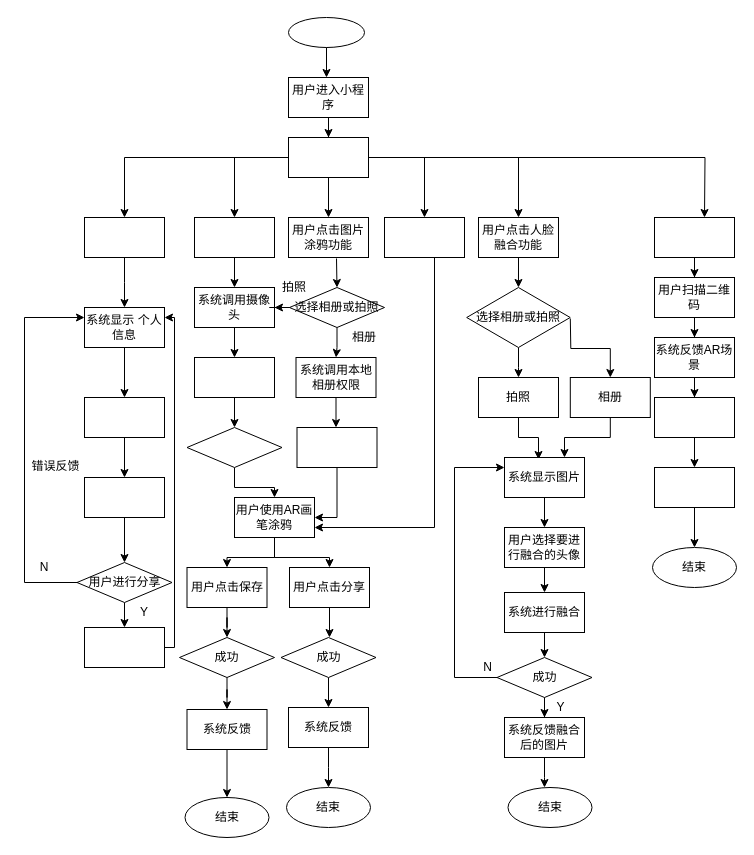
Some shapes in this 754 by 855 pixel diagram are drawn without their labels. The box of each missing label's shape, as (x1, y1, x2, y2) in pixels:
分享成功，系统进行提示: (84, 626, 164, 668)
开始: (288, 16, 364, 48)
拍照成功: (186, 426, 282, 468)
用户点击ar涂鸦功能: (384, 216, 464, 258)
用户点击VR空间: (654, 216, 734, 258)
用户点击拍照: (194, 356, 274, 398)
用户点击拍照图标: (194, 216, 274, 258)
用户点击相应标签: (654, 396, 734, 438)
用户点击邀请卡: (84, 396, 164, 438)
用户进入我的中心: (84, 216, 164, 258)
用户进入首页: (288, 136, 368, 178)
用户选择图片: (296, 426, 377, 468)
系统生成邀请卡: (84, 476, 164, 518)
进入相应VR场景: (654, 466, 734, 508)
